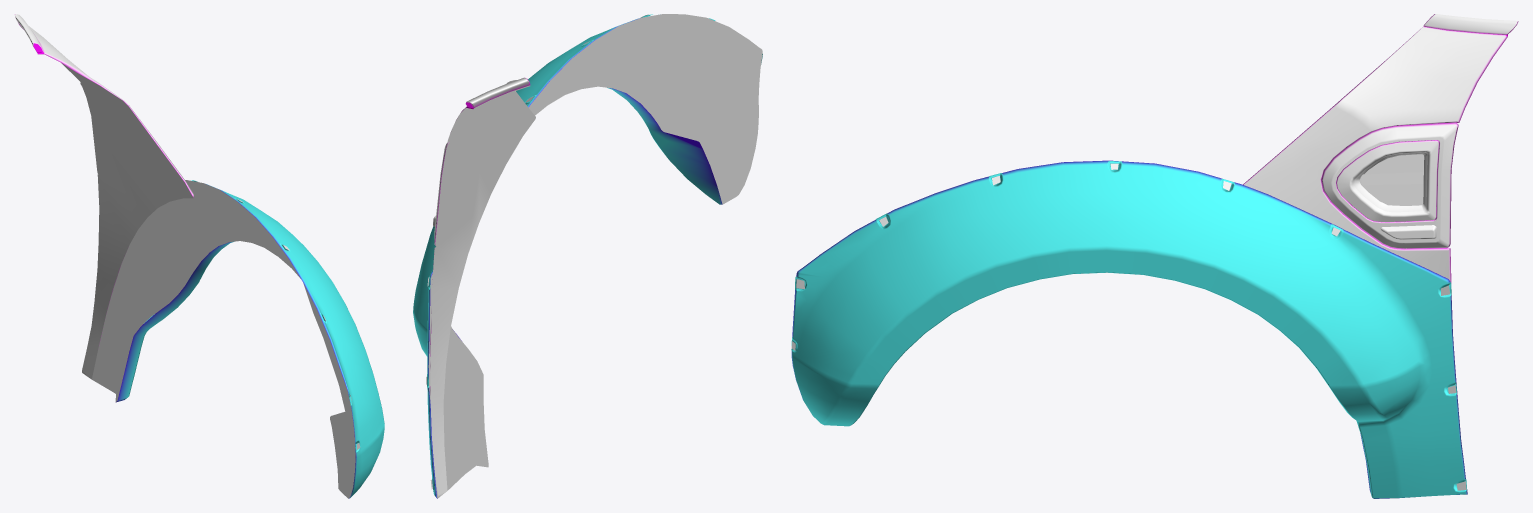
Rendered from Car_Mini_CountrymanJCW_2017_FenderFL_SetE.fbx.
The picture shows the model from 3 angles, left to right: view 1: azimuth 30°, elevation 25°; view 2: azimuth 150°, elevation 25°; view 3: azimuth 270°, elevation 25°; orthographic projection. The views are drawn at different scales.
Parts seen in each view (by area): view 1: FenderFL 6; view 2: FenderFL 6; view 3: FenderFL 6.
Part boxes in pixels (box(x1,y1,x2,y2)): FenderFL 6: box(14, 14, 384, 498); FenderFL 6: box(413, 14, 762, 498); FenderFL 6: box(791, 14, 1518, 498).
Size of the model in its own units: 0.2839 by 0.7508 by 1.11.
